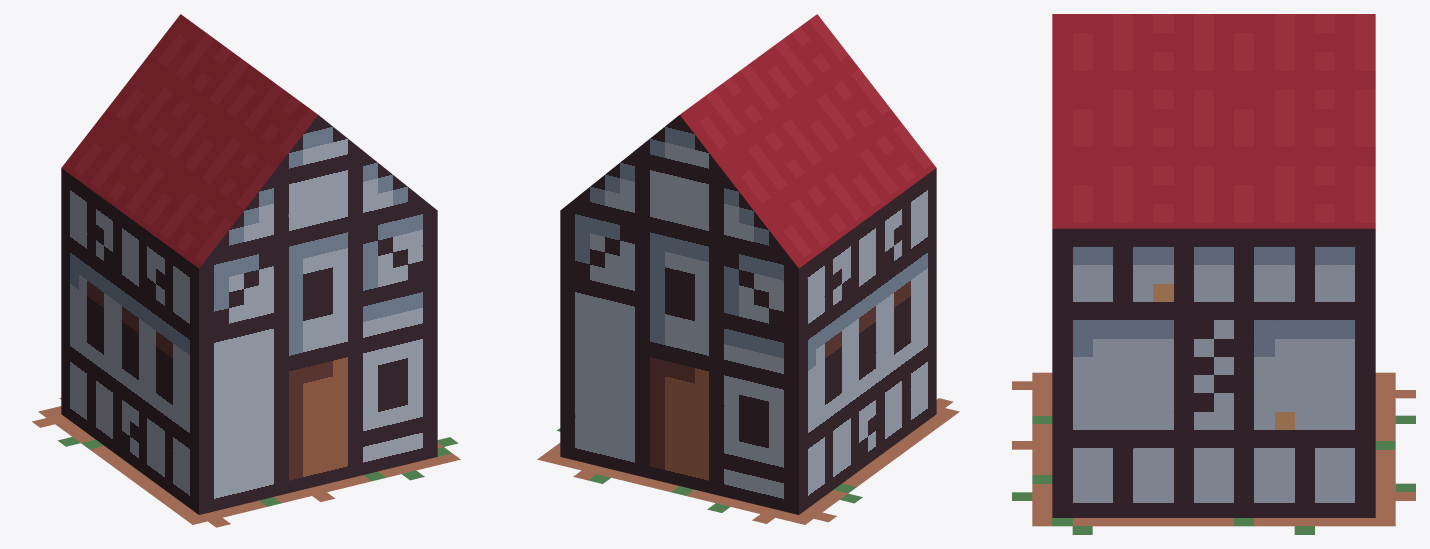
Rendered from block5.gltf.
The picture shows the model from 3 angles, left to right: view 1: azimuth 30°, elevation 25°; view 2: azimuth 150°, elevation 25°; view 3: azimuth 270°, elevation 25°; orthographic projection. The views are drawn at different scales.
Parts seen in each view (by area): view 1: cube; view 2: cube; view 3: cube.
Boxes of the visible parts, left/top/right/bottom form: cube: left=32, top=14, right=460, bottom=527; cube: left=537, top=14, right=959, bottom=524; cube: left=1012, top=14, right=1415, bottom=534.
Bounding box in the file's own units: 1.25 × 1.5 × 1.25.
Materials: 1 (1 with a texture image).
